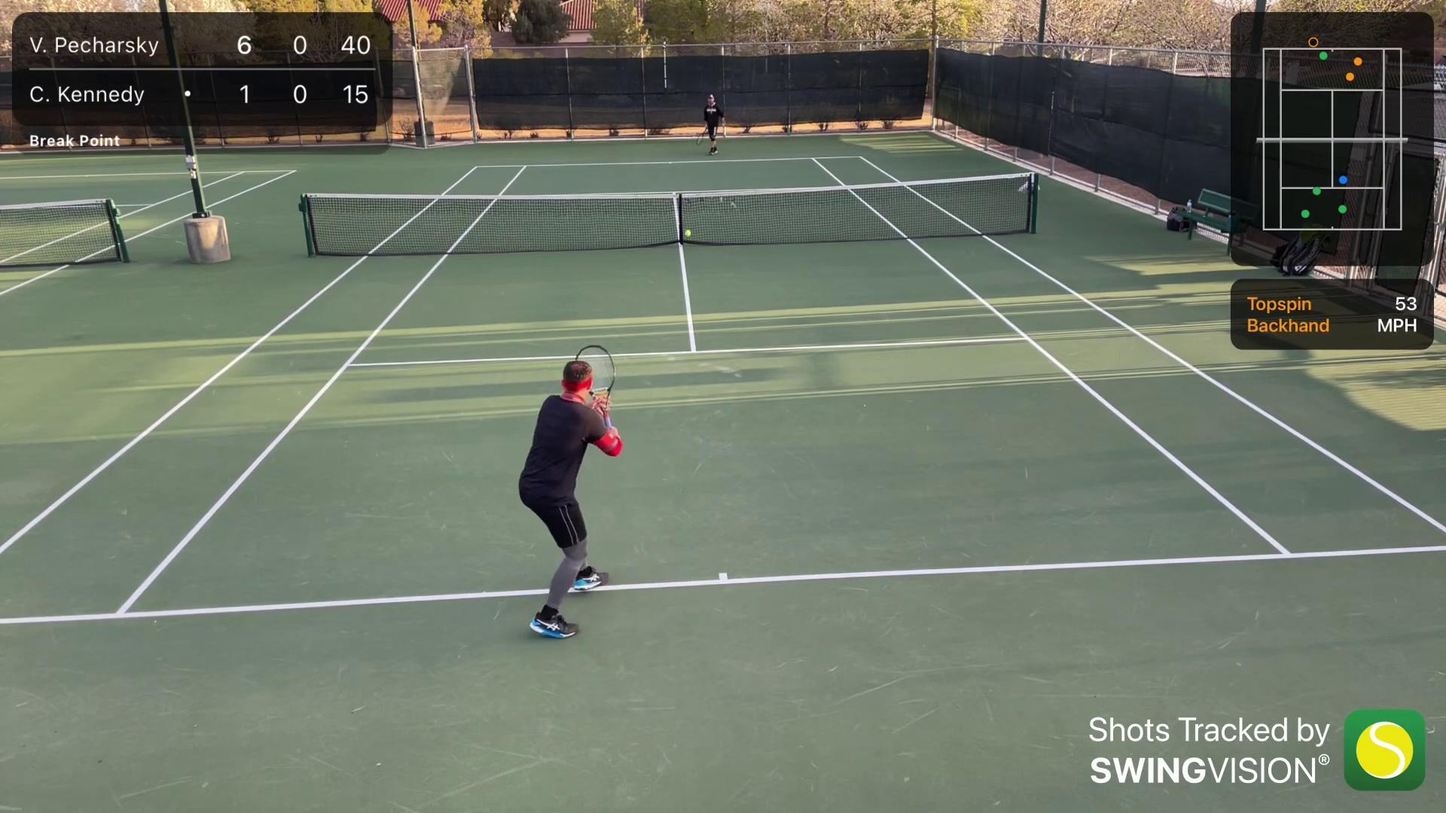ball: (685, 231, 692, 238)
